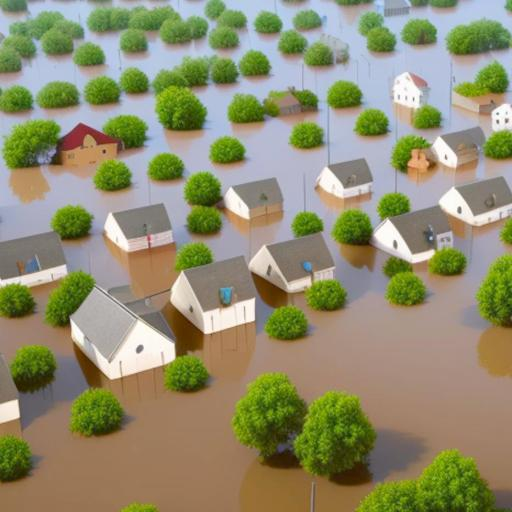house: (71, 282, 179, 384), (166, 258, 262, 338), (254, 230, 338, 298), (372, 206, 458, 264), (0, 236, 68, 294), (440, 175, 512, 228), (100, 206, 178, 254), (225, 175, 287, 227), (316, 154, 376, 206), (62, 121, 120, 163), (436, 127, 488, 165), (390, 70, 430, 114), (0, 346, 18, 428), (406, 142, 434, 174), (490, 102, 512, 134)
